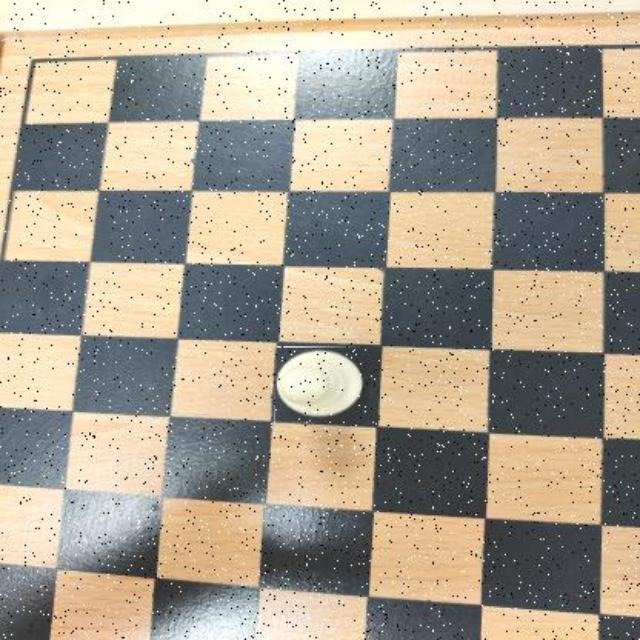white-pawn: (275, 346, 367, 424)
